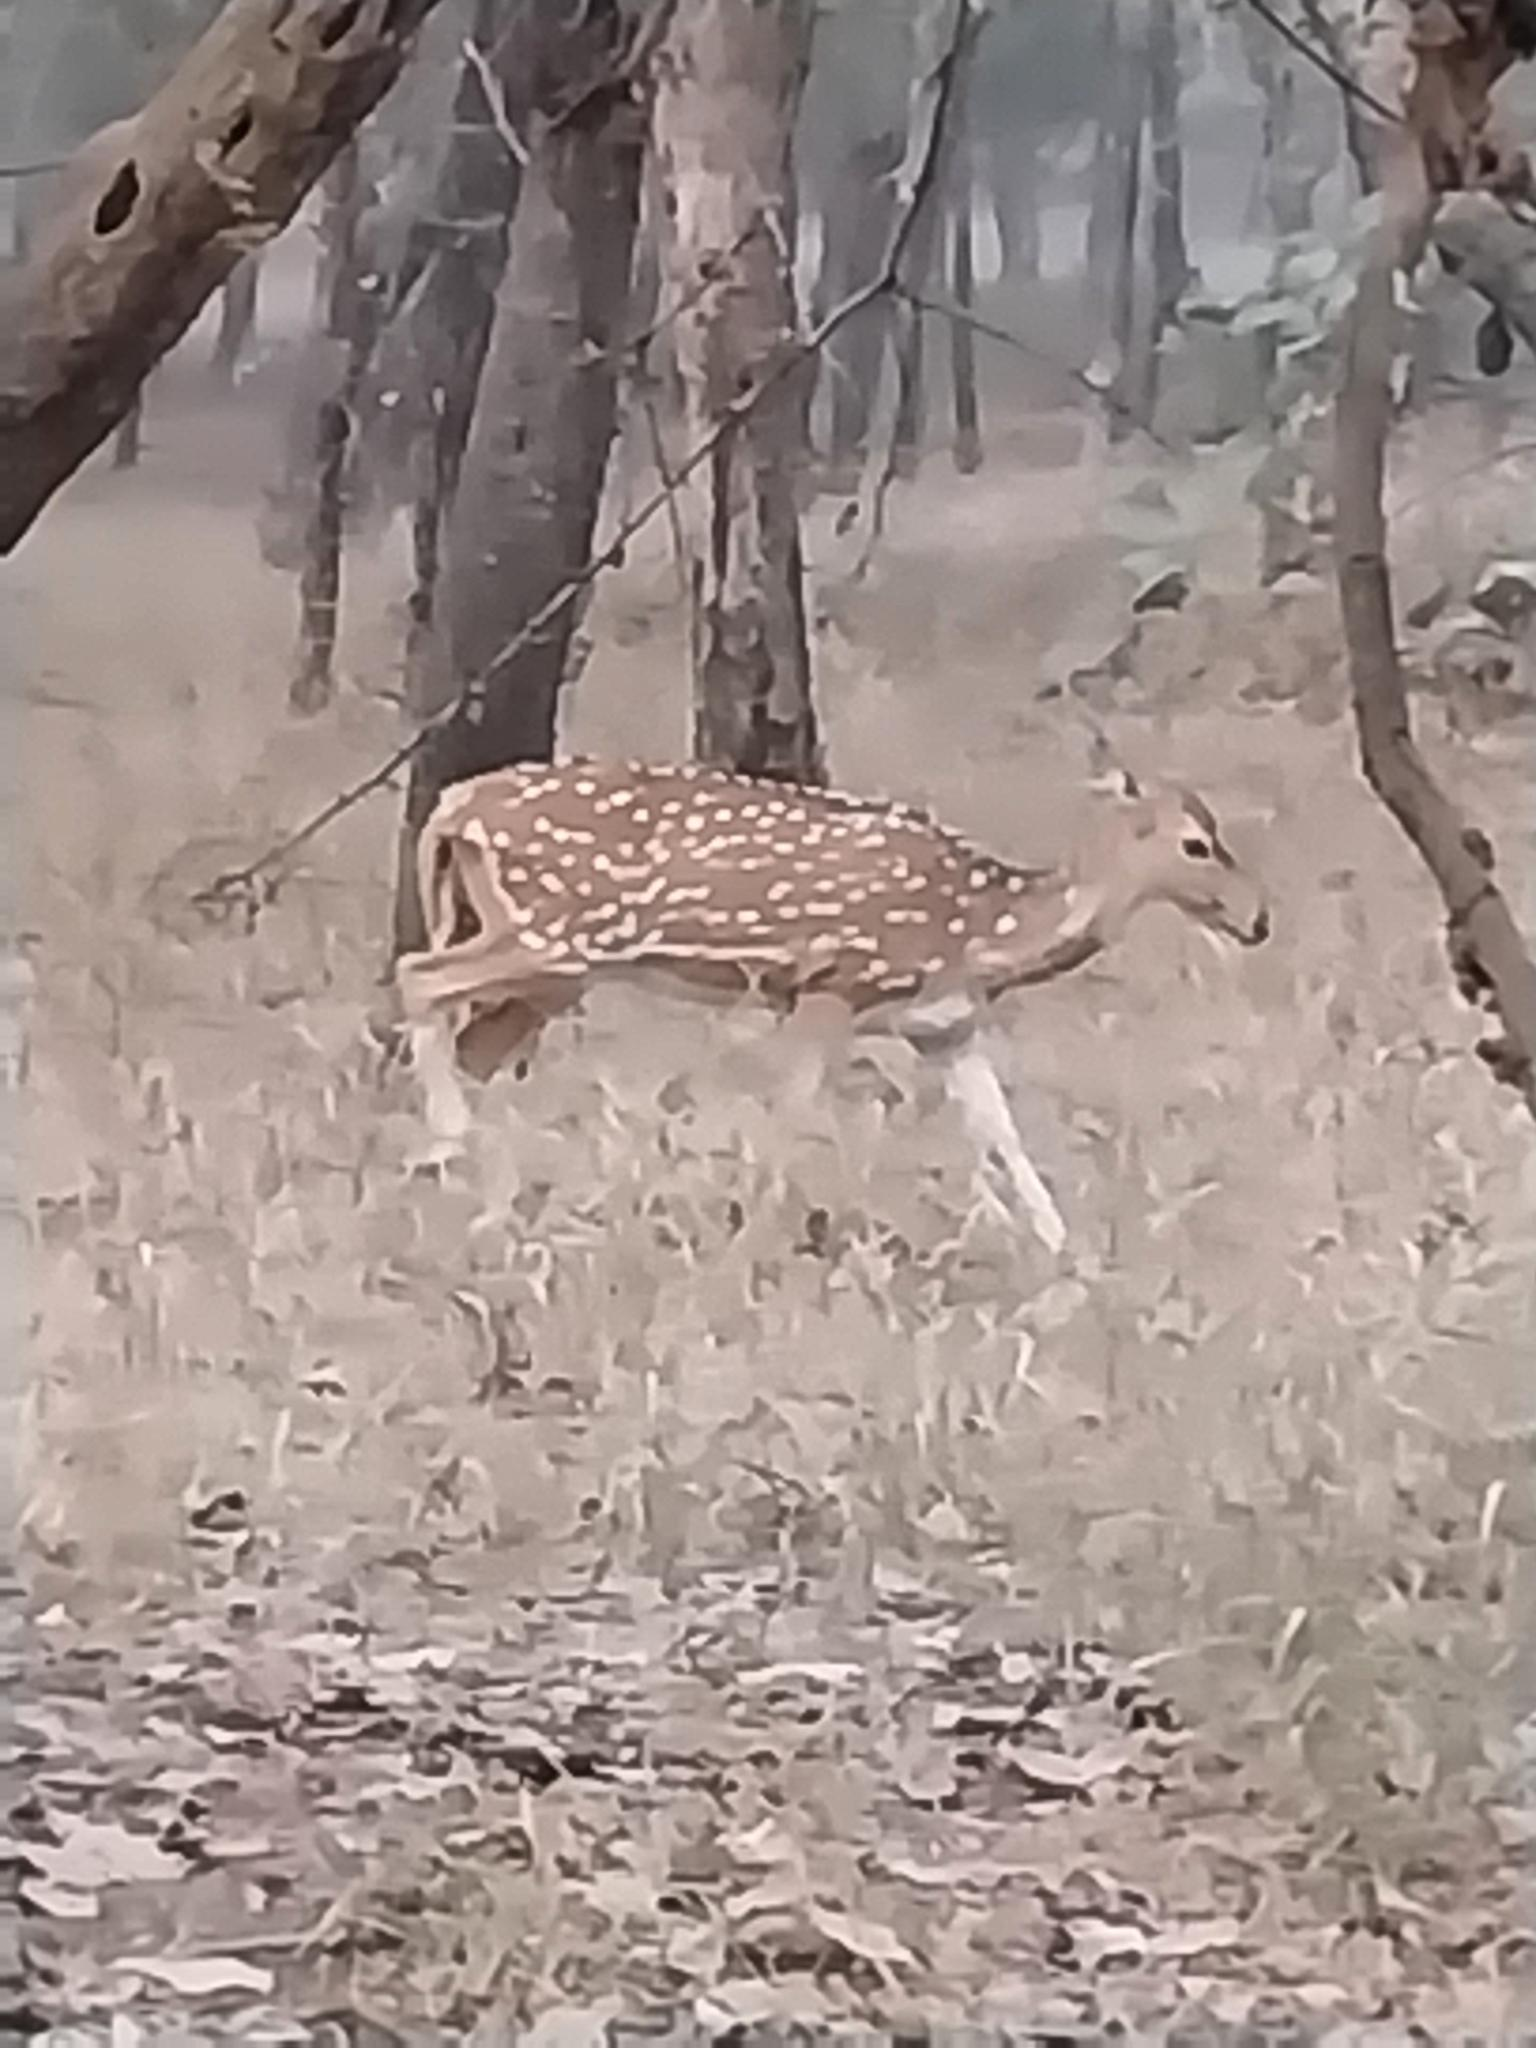Deer: (397, 760, 1270, 1250)
